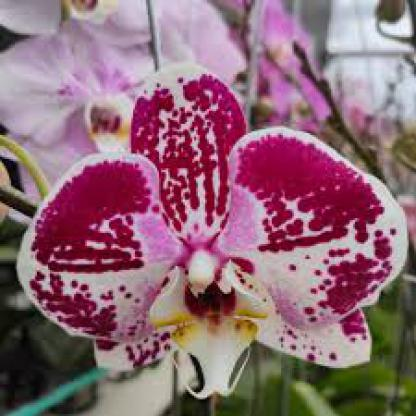ANGGREK: (30, 58, 406, 378)
